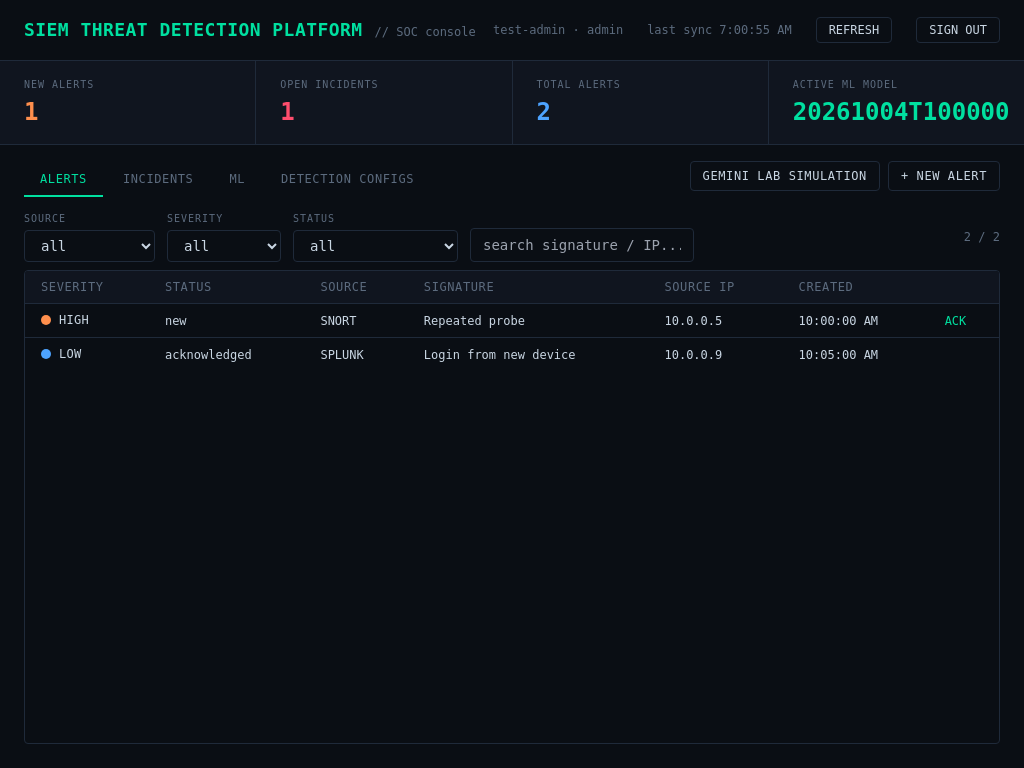
App › filters the alerts table by free-text search
Expected: the text "Repeated probe" is shown, [408,304,648,338]
Type "new device" into the field with placeholder "search signature / IP..." at (582, 245), box [470,228,694,262]
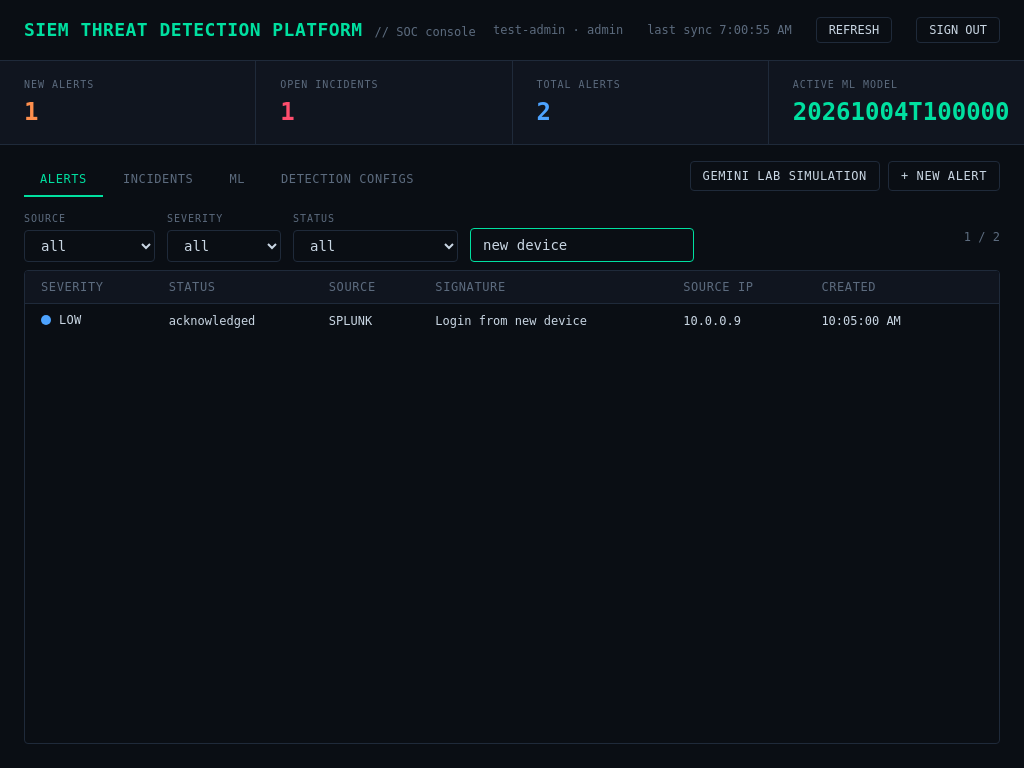
Expected: the text "Login from new device" is shown, [419,304,667,337]
Expected: the text "Repeated probe" is gone
